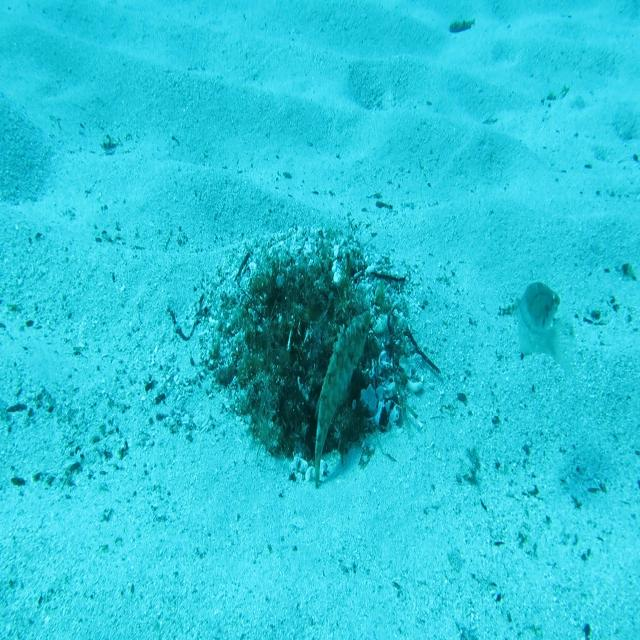LF: (310, 305, 372, 490)
core_nest: (278, 282, 330, 319)
female: (516, 276, 578, 383)
nest: (199, 223, 435, 492)
vegetation: (448, 18, 479, 36)
